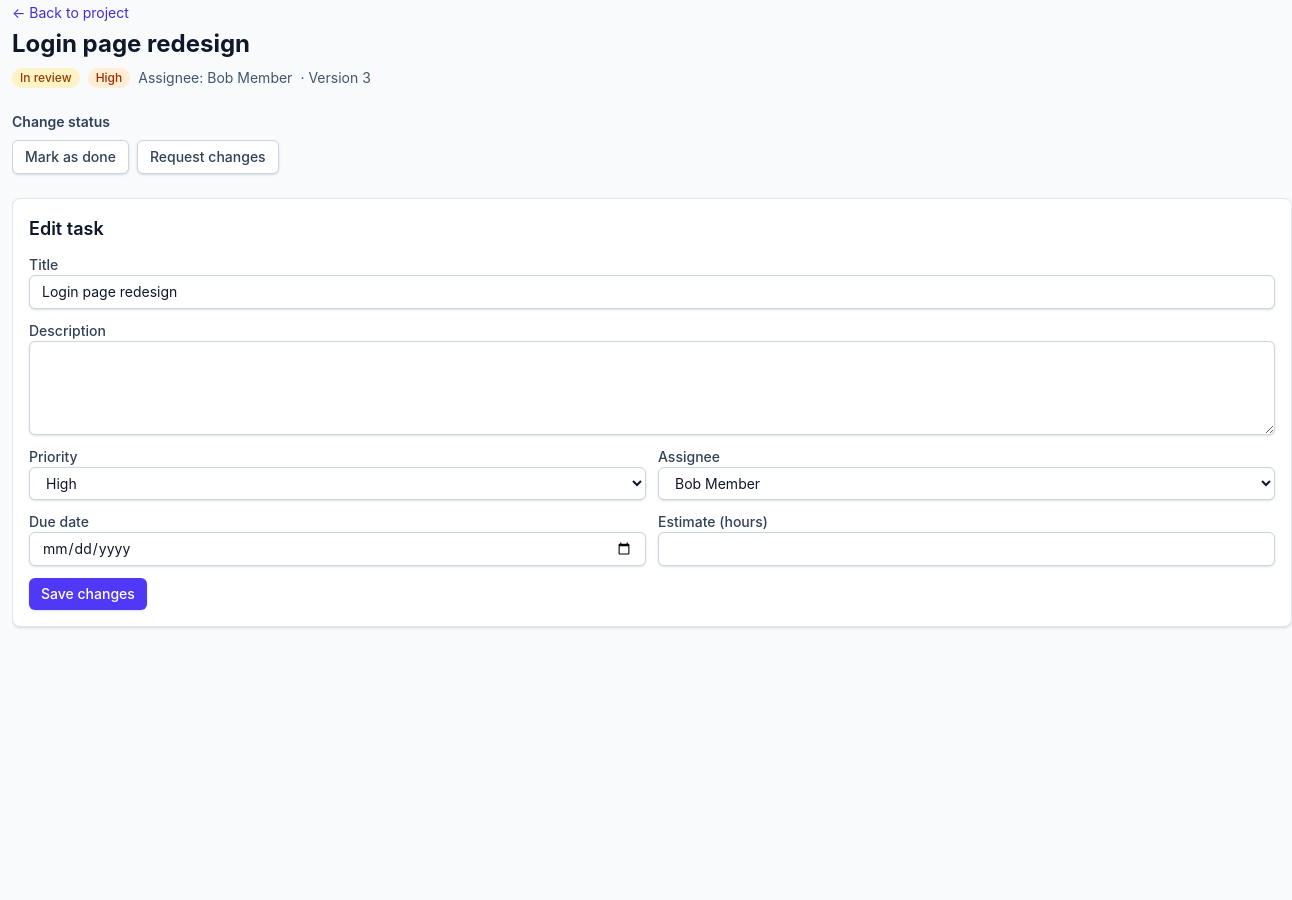
Scenario: TaskDetail › sends the transition with the current version
What coordinates should you click on to do the following:
click the button "Mark as done"
I would click on:
 (70, 157)
Its box is [12,140,129,174].
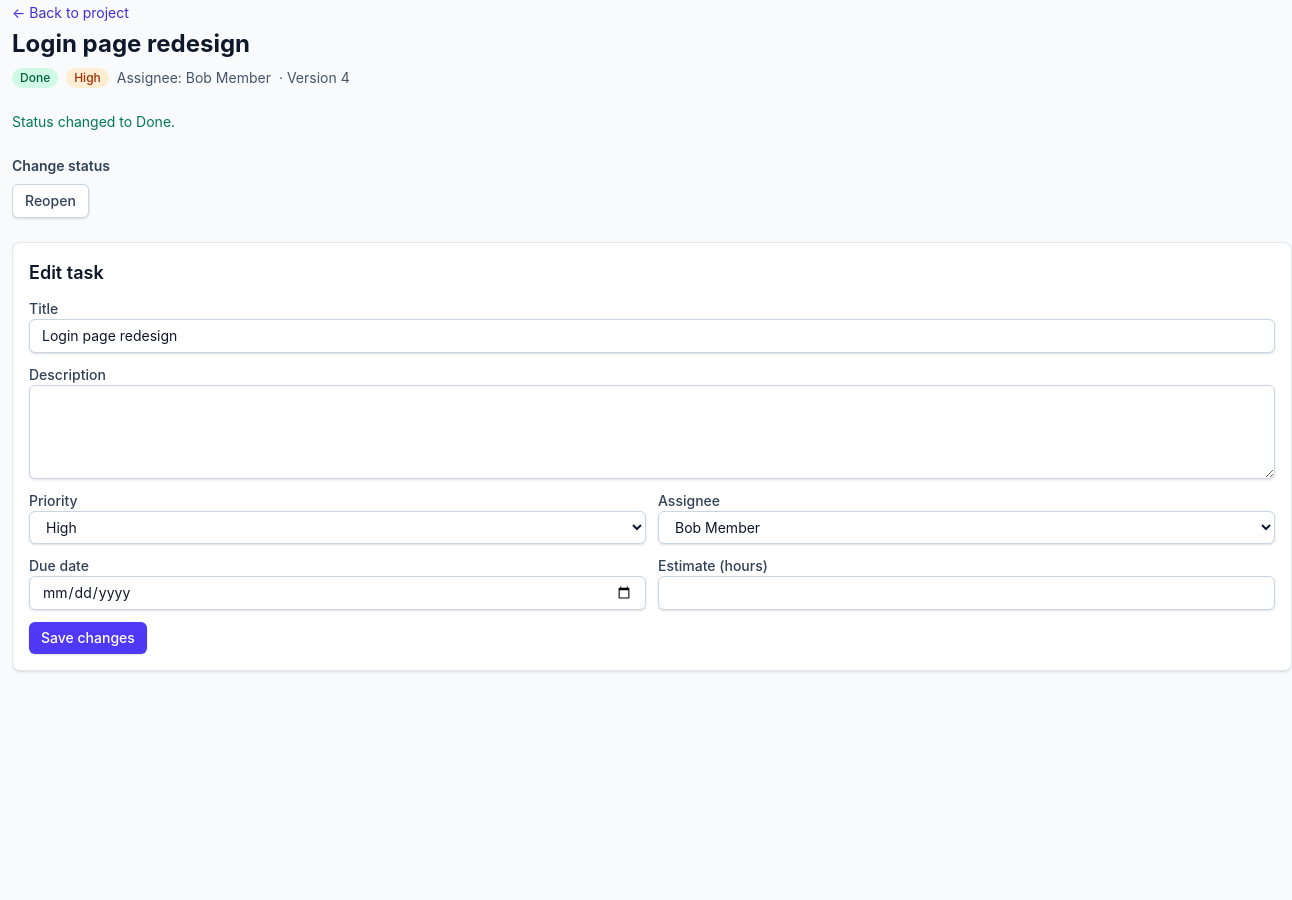
Now the text "Status changed to Done." is shown, box [12,113,175,130]
Now the button "Reopen" is shown, box [12,184,89,218]
